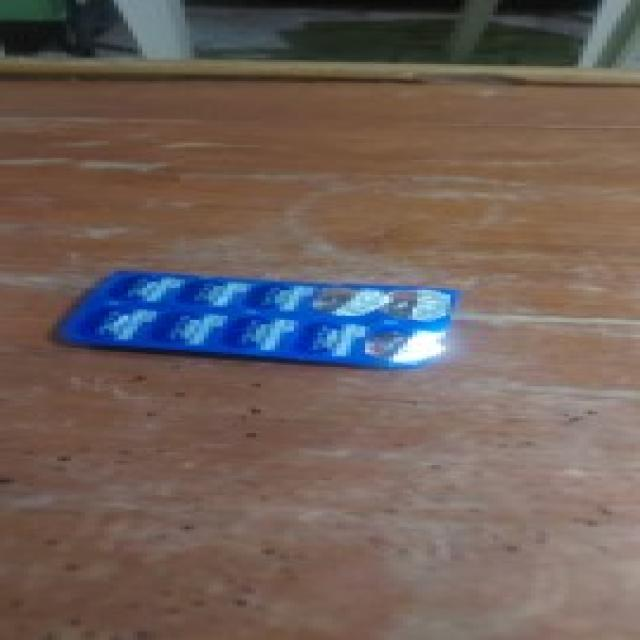Cacat: (50, 268, 455, 372)
Kemasan: (315, 286, 450, 324), (358, 323, 446, 371)
